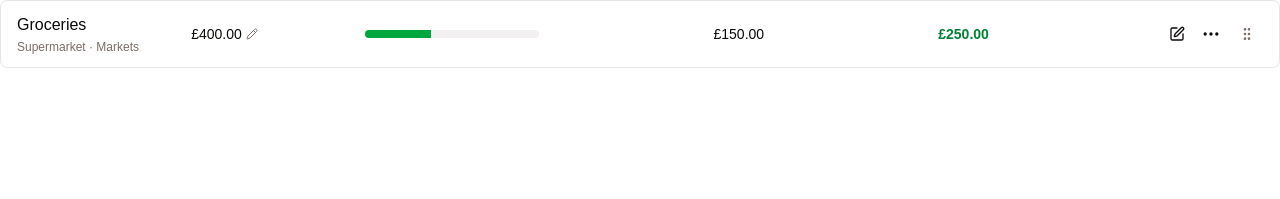
it: EnvelopeRow on phones › rejects an empty amount inline and keeps the editor open
Click the button named "Edit assigned amount for Groceries": (224, 34) [187,18,262,50]
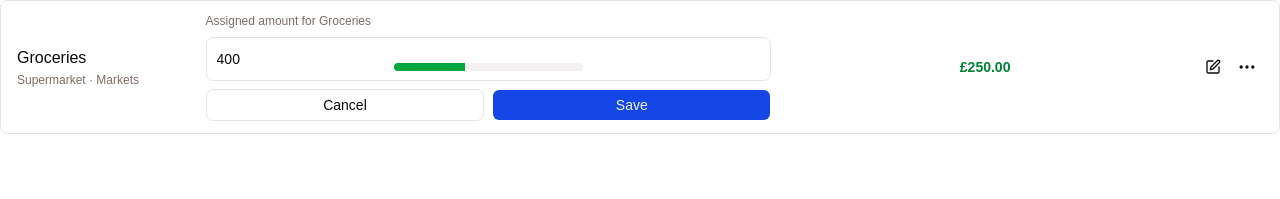
Clear the number field: (488, 59) [206,37,771,81]
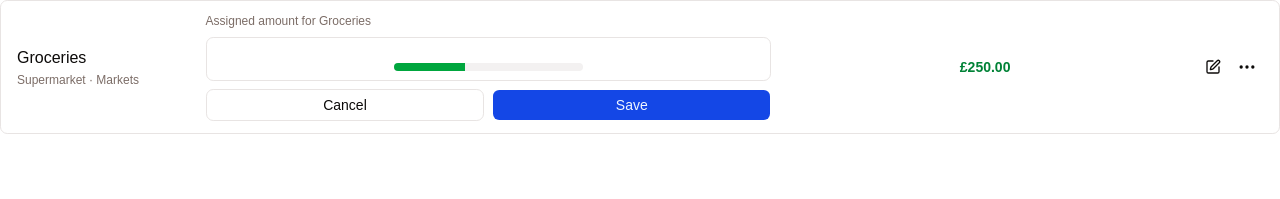
Click the button "Save": (632, 105) [492,89,771,121]
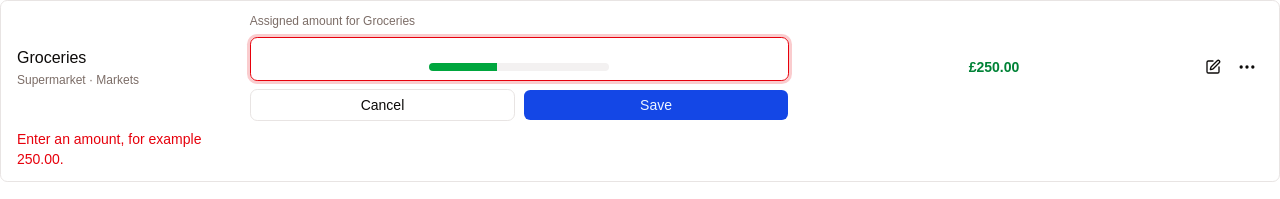
Now the message shows "Enter an amount", box [17,131,201,167]
